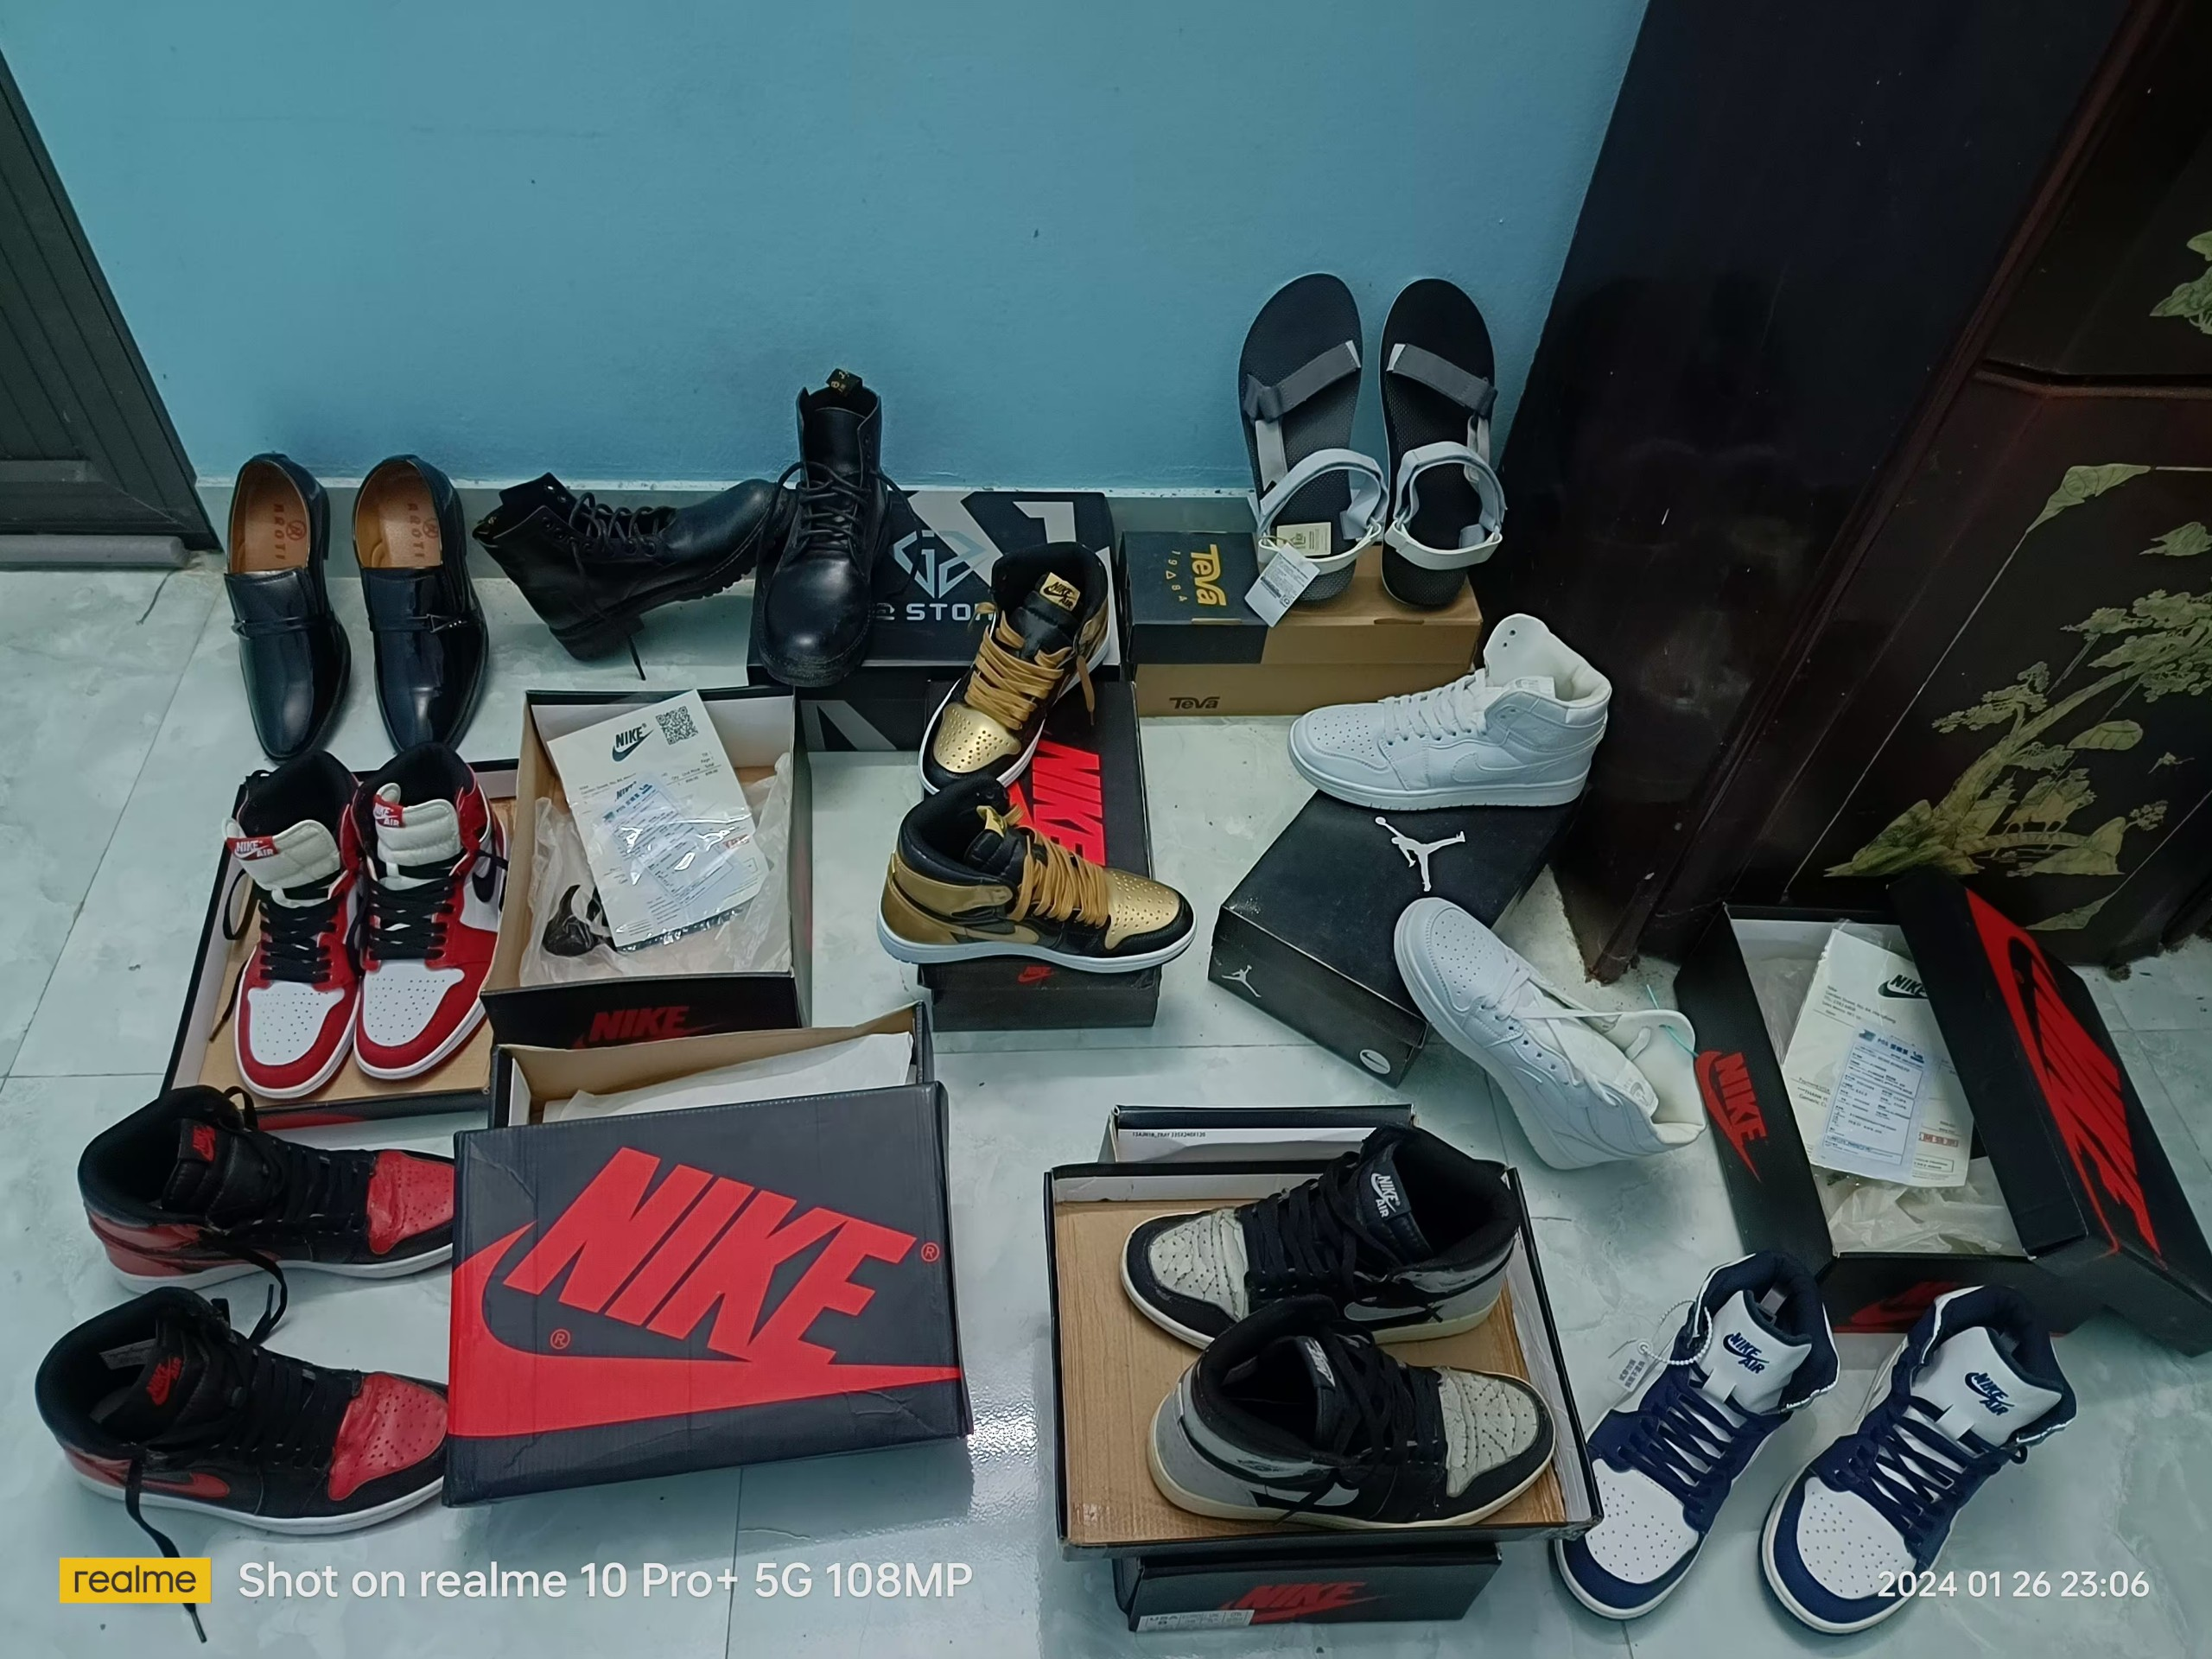boots: (474, 471, 796, 669), (752, 375, 890, 687)
loafers: (350, 453, 489, 753), (221, 455, 354, 762)
sandals: (1237, 272, 1388, 606), (1378, 272, 1507, 615)
sneakers: (1756, 1284, 2080, 1640), (1552, 1244, 1841, 1622), (30, 1283, 451, 1539), (1146, 1297, 1557, 1534), (1122, 1126, 1522, 1354), (1390, 890, 1707, 1171), (75, 1080, 462, 1281), (1289, 613, 1609, 814), (874, 772, 1197, 969), (350, 756, 507, 1084), (221, 749, 364, 1098), (920, 540, 1109, 796)
